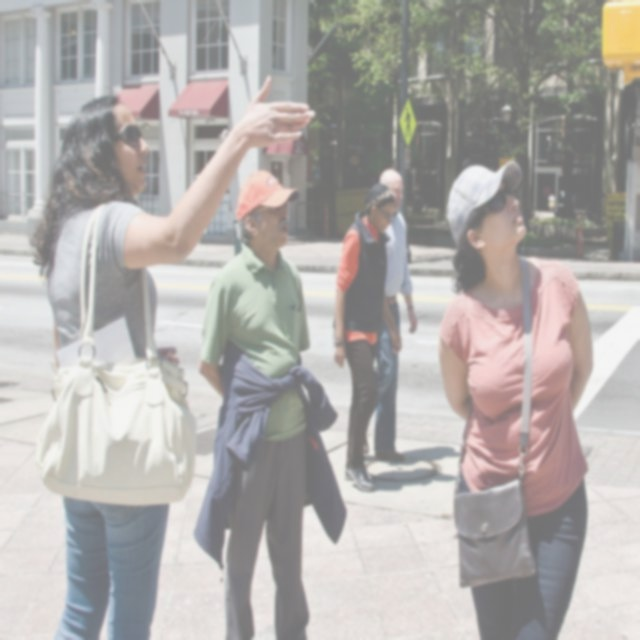pessoa: (29, 73, 317, 639), (432, 150, 602, 639), (188, 163, 350, 640), (333, 182, 404, 492), (361, 167, 420, 464), (360, 436, 470, 494)
